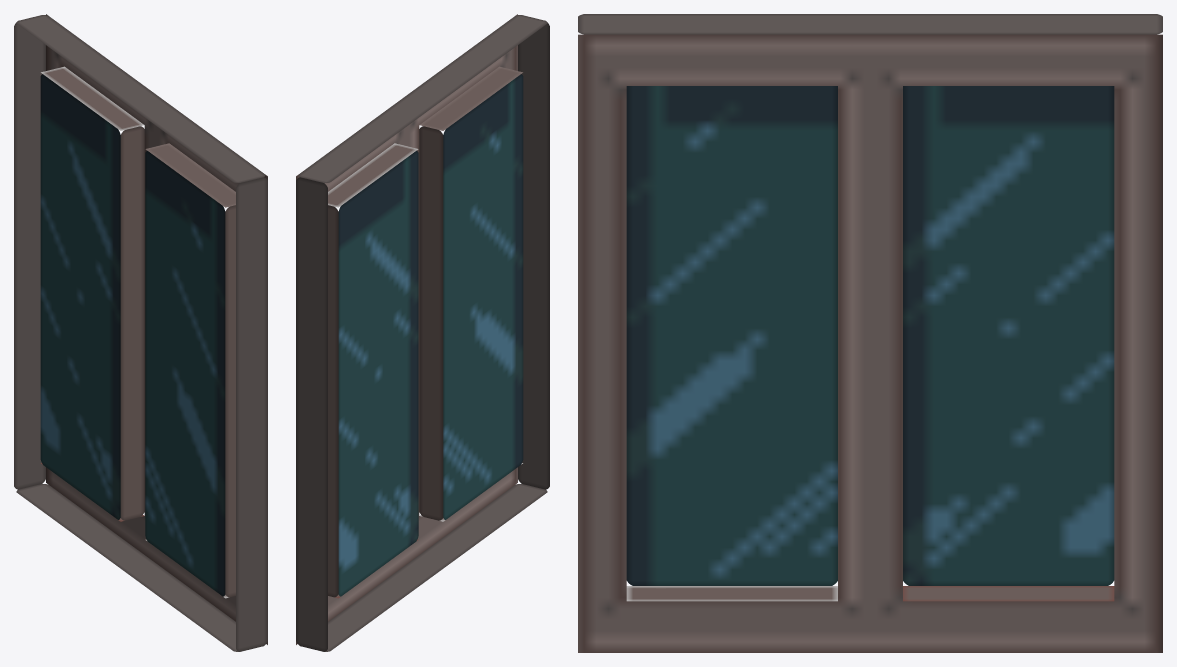
The model's file is WindowBrown2mirco.fbx.
3 views of the same model, side by side, from view 1: azimuth 30°, elevation 25°; view 2: azimuth 150°, elevation 25°; view 3: azimuth 270°, elevation 25° (orthographic). The views are drawn at different scales.
Visible parts, largest first — view 1: plane; view 2: plane; view 3: plane.
Part boxes in pixels (box(x1,y1,x2,y2)): plane: box(14, 14, 267, 651); plane: box(296, 14, 549, 651); plane: box(578, 14, 1162, 652).
Size of the model in its own units: 6.25 by 87.5 by 75.
Materials: 1 (1 with a texture image).
